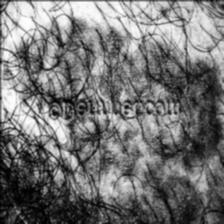Toxin: (19, 21, 218, 224)
